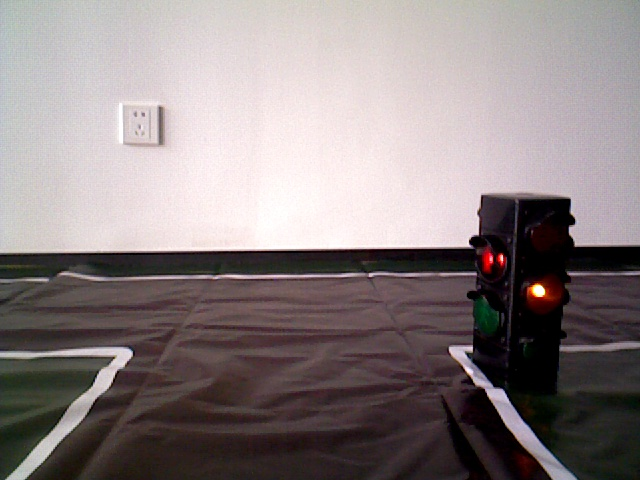yellow: (480, 194, 560, 373)
